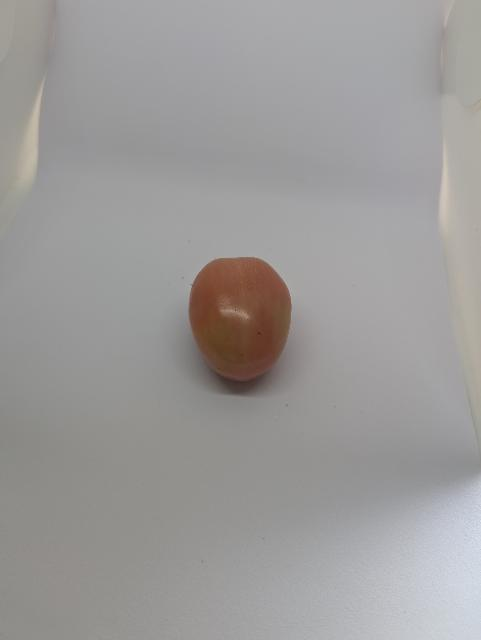turning: (182, 249, 301, 388)
